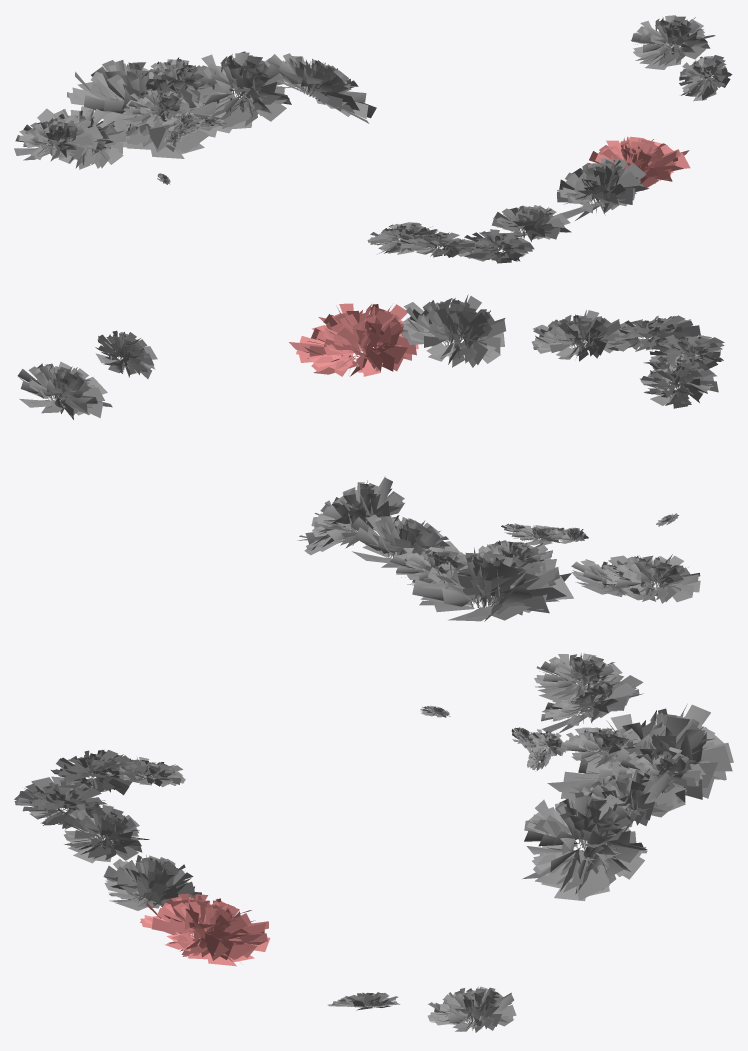
Rendered from Woods_Bushes_14_CMB.gltf.
The picture shows the model from 3 angles, top to bottom: view 1: azimuth 30°, elevation 25°; view 2: azimuth 150°, elevation 25°; view 3: azimuth 270°, elevation 25°; orthographic projection. The views are drawn at different scales.
Visible parts, largest first — view 1: Woods_Bushes_14_CMB; view 2: Woods_Bushes_14_CMB; view 3: Woods_Bushes_14_CMB.
Part boxes in pixels (x1,y1,x2,y2): Woods_Bushes_14_CMB: [14, 15, 732, 263]; Woods_Bushes_14_CMB: [17, 294, 724, 621]; Woods_Bushes_14_CMB: [14, 653, 733, 1032].
Size of the model in its own units: 500 by 49.65 by 411.
